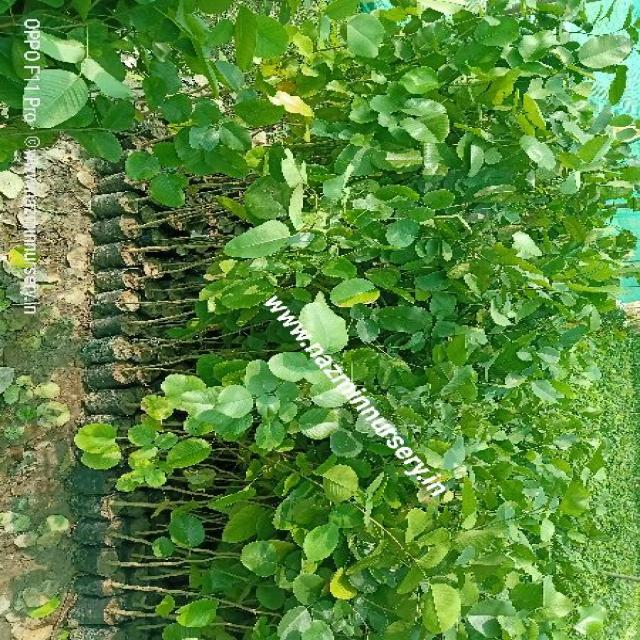Medicinal-Sandalwood: (171, 7, 589, 640)
